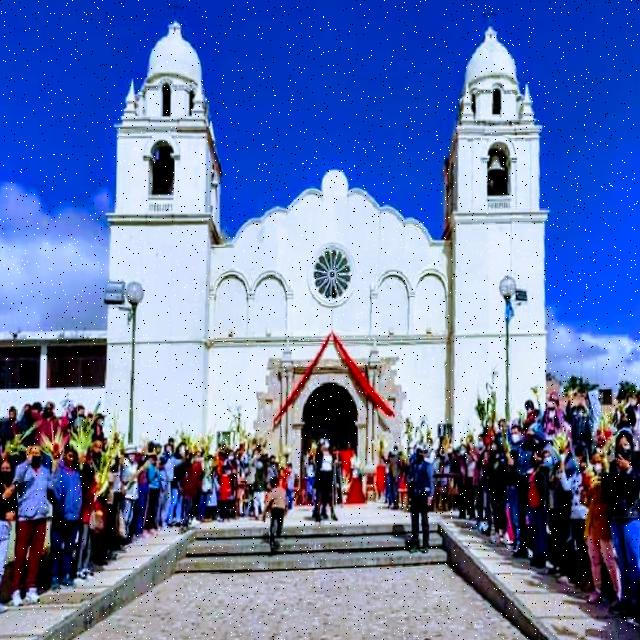CAMPANARIO: (108, 126, 231, 228), (440, 128, 554, 225)
CUPULA: (453, 16, 546, 108), (131, 17, 226, 92)
PORTADA CENTRAL: (283, 364, 378, 509)
SIMETRIA COLONIAL: (69, 0, 582, 540)
TORRES: (448, 6, 578, 524), (99, 6, 227, 516)
colonial-architecture-: (0, 0, 640, 552)
